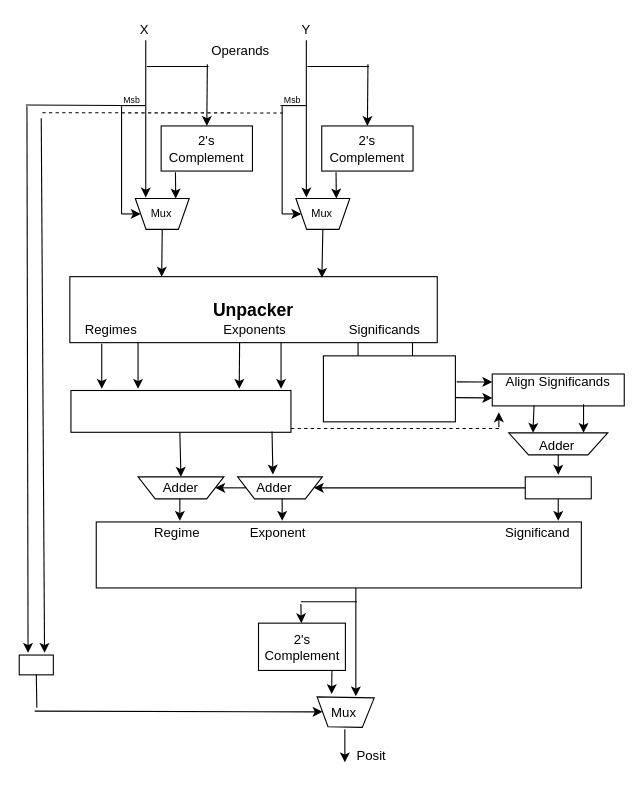
This 644x790 diagram has some shape labels left out. The box of each missing label's shape, as (x1, y1, x2, y2) in pixels:
Normalize: (524, 476, 591, 499)
Packer: (95, 521, 581, 588)
Power Subtractor: (70, 389, 291, 432)
Selective complement and possible swap: (322, 355, 455, 422)
XOR: (18, 654, 53, 675)
